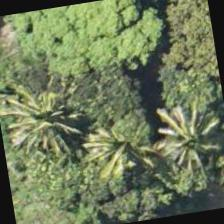Kelapa_Sawit: (62, 105, 166, 208), (139, 91, 223, 194), (0, 64, 84, 166)
